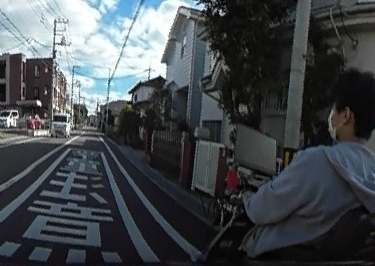person: (237, 66, 375, 255)
